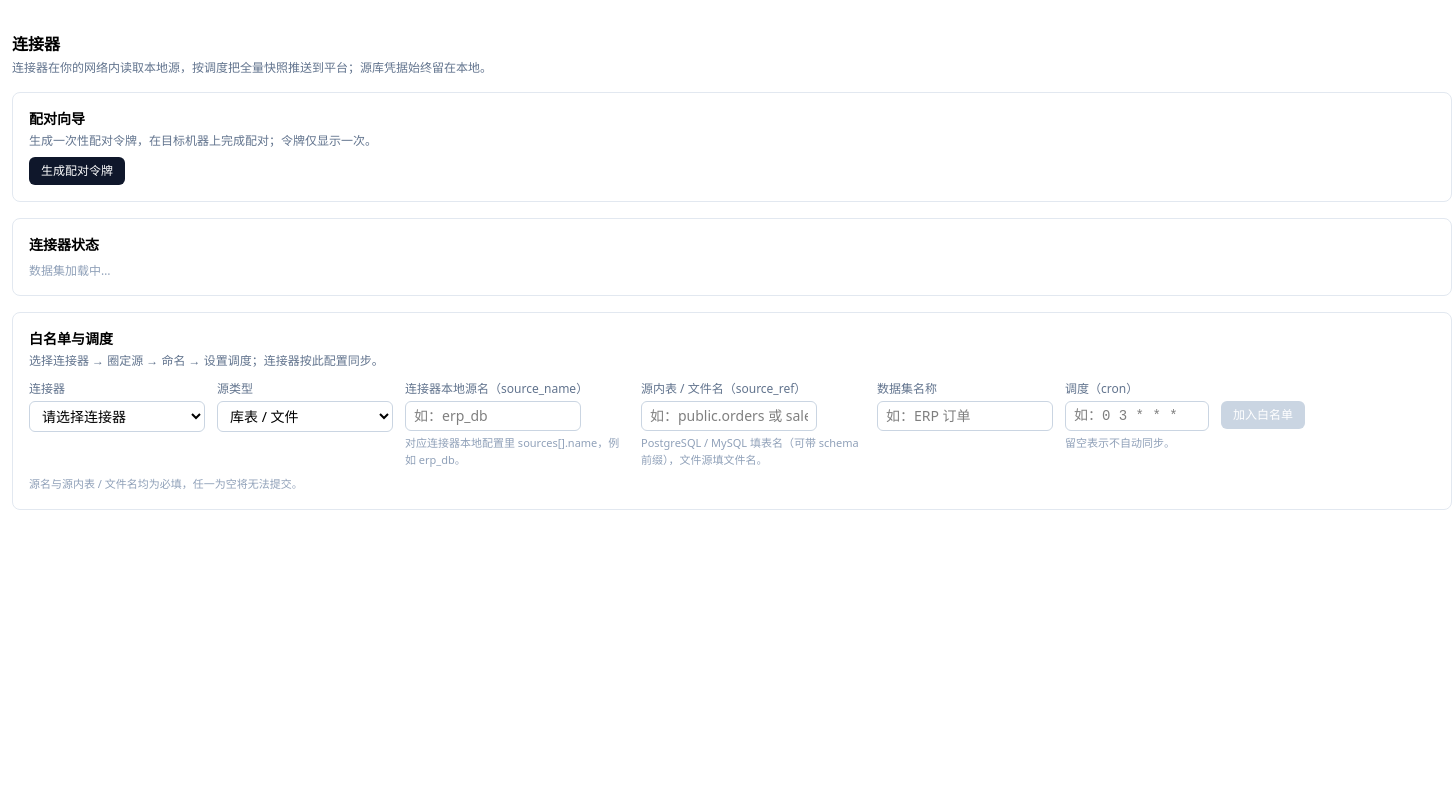
Test: 配对向导下载清单（任务 3.1/3.3） › manifest 不可达（404）：显示「暂不可下载」，保留命令行指引（不隐藏步骤）
The width and height of the screenshot is (1452, 810).
Click the button with test id "pairing-generate" at (77, 171), box [29, 157, 125, 185]
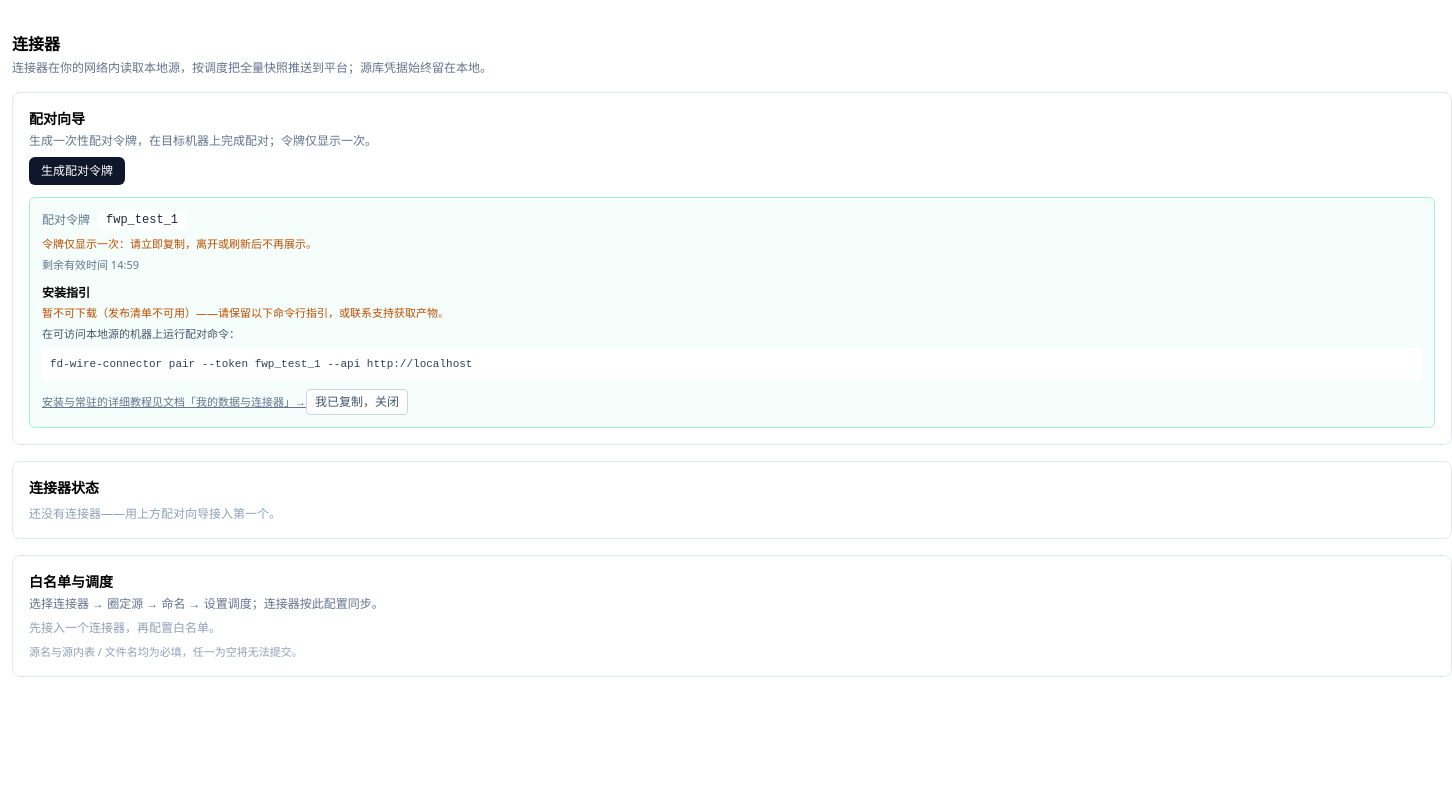
Now the element with test id "pairing-token-panel" is shown, box [29, 197, 1435, 428]
Now the text with test id "connector-downloads-unavailable" shows "暂不可下载", box [42, 305, 449, 320]
Now the text with test id "pairing-command" shows "fd-wire-connector pair --token", box [50, 358, 472, 370]
